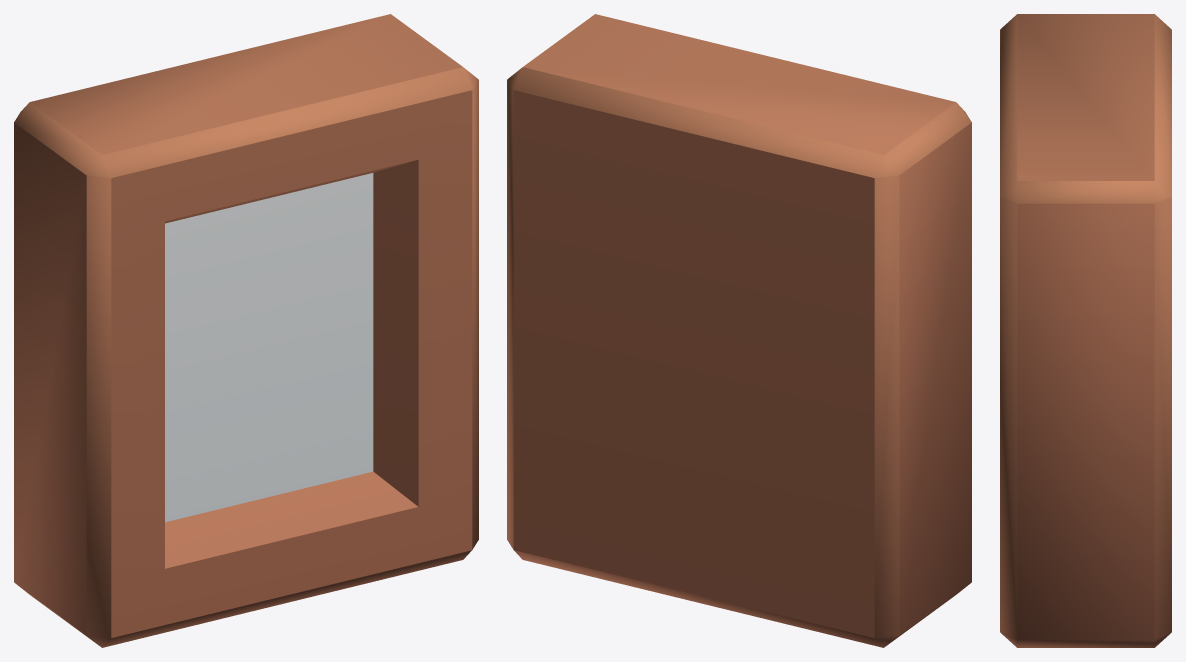
3 renders of one model, left to right at view 1: azimuth 30°, elevation 25°; view 2: azimuth 150°, elevation 25°; view 3: azimuth 270°, elevation 25°, orthographic. The views are drawn at different scales.
Parts seen in each view (by area): view 1: pictureframe_small_A; view 2: pictureframe_small_A; view 3: pictureframe_small_A.
Boxes of the visible parts, left/top/right/bottom form: pictureframe_small_A: left=14, top=14, right=478, bottom=647; pictureframe_small_A: left=507, top=14, right=971, bottom=647; pictureframe_small_A: left=1000, top=14, right=1171, bottom=647.
Bounding box in the file's own units: 0.5 × 0.6 × 0.2.
1 material, 1 textured.
